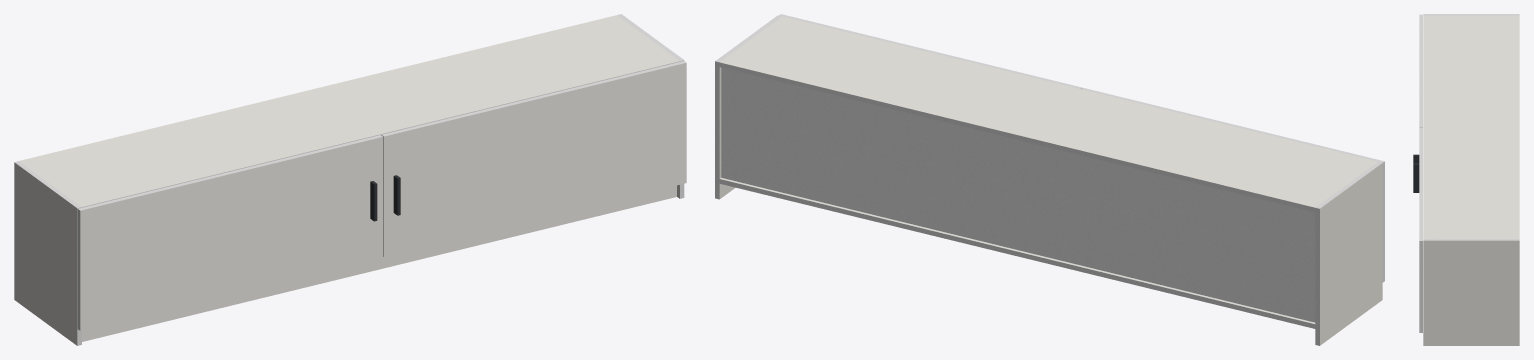
File: LIT-MED-long.glb
The picture shows the model from 3 angles, left to right: view 1: azimuth 30°, elevation 25°; view 2: azimuth 150°, elevation 25°; view 3: azimuth 270°, elevation 25°; orthographic projection. The views are drawn at different scales.
Visible parts, largest first — view 1: top:pbr, door-l:pbr, door-r:pbr, side-l:pbr, plinth:pbr, door-l:sheet:eyJtIjoibWRmIiwic2lkZSI6ImVkZ2UtbG9uZyIsInNlZWQ, door-r:sheet:eyJtIjoibWRmIiwic2lkZSI6ImVkZ2UtbG9uZyIsInNlZWQ, top:sheet:eyJtIjoibWRmIiwic2lkZSI6ImVkZ2UtbG9uZyIsInNlZWQiOj, pull; view 2: back:sheet:eyJtIjoibWRmIiwic2lkZSI6ImZhY2UiLCJzZWVkIjoxLCJ0a, top:pbr, side-l:pbr, top:sheet:eyJtIjoibWRmIiwic2lkZSI6ImVkZ2UtbG9uZyIsInNlZWQiOj, bottom:sheet:eyJtIjoibWRmIiwic2lkZSI6ImVkZ2UtbG9uZyIsInNlZWQ, bottom:pbr, door-l:sheet:eyJtIjoibWRmIiwic2lkZSI6ImVkZ2UtbG9uZyIsInNlZWQ, door-r:sheet:eyJtIjoibWRmIiwic2lkZSI6ImVkZ2UtbG9uZyIsInNlZWQ, side-l:sheet:eyJtIjoibWRmIiwic2lkZSI6ImVkZ2UtbG9uZyIsInNlZWQ, side-r:sheet:eyJtIjoibWRmIiwic2lkZSI6ImVkZ2UtbG9uZyIsInNlZWQ; view 3: top:pbr, side-r:pbr, door-l:sheet:eyJtIjoibWRmIiwic2lkZSI6ImVkZ2UtbG9uZyIsInNlZWQ, door-r:sheet:eyJtIjoibWRmIiwic2lkZSI6ImVkZ2UtbG9uZyIsInNlZWQ, door-r:sheet:eyJtIjoibWRmIiwic2lkZSI6ImVkZ2UtZW5kIiwic2VlZCI, pull, side-l:sheet:eyJtIjoibWRmIiwic2lkZSI6ImVkZ2UtZW5kIiwic2VlZCI, side-r:sheet:eyJtIjoibWRmIiwic2lkZSI6ImVkZ2UtZW5kIiwic2VlZCI.
Part boxes in pixels (bbox=[...]): top:pbr: bbox=[19, 15, 679, 206]; door-l:pbr: bbox=[80, 137, 383, 330]; door-r:pbr: bbox=[384, 63, 686, 256]; side-l:pbr: bbox=[14, 162, 77, 345]; plinth:pbr: bbox=[82, 185, 676, 341]; door-l:sheet:eyJtIjoibWRmIiwic2lkZSI6ImVkZ2UtbG9uZyIsInNlZWQ: bbox=[78, 135, 382, 210]; door-r:sheet:eyJtIjoibWRmIiwic2lkZSI6ImVkZ2UtbG9uZyIsInNlZWQ: bbox=[381, 61, 686, 136]; top:sheet:eyJtIjoibWRmIiwic2lkZSI6ImVkZ2UtbG9uZyIsInNlZWQiOj: bbox=[82, 61, 679, 207]; pull: bbox=[370, 175, 400, 221]; back:sheet:eyJtIjoibWRmIiwic2lkZSI6ImZhY2UiLCJzZWVkIjoxLCJ0a: bbox=[721, 67, 1315, 322]; top:pbr: bbox=[720, 16, 1377, 207]; side-l:pbr: bbox=[1320, 163, 1382, 345]; top:sheet:eyJtIjoibWRmIiwic2lkZSI6ImVkZ2UtbG9uZyIsInNlZWQiOj: bbox=[719, 62, 1315, 212]; bottom:sheet:eyJtIjoibWRmIiwic2lkZSI6ImVkZ2UtbG9uZyIsInNlZWQ: bbox=[719, 179, 1315, 328]; bottom:pbr: bbox=[720, 177, 1315, 323]; door-l:sheet:eyJtIjoibWRmIiwic2lkZSI6ImVkZ2UtbG9uZyIsInNlZWQ: bbox=[1081, 88, 1384, 162]; door-r:sheet:eyJtIjoibWRmIiwic2lkZSI6ImVkZ2UtbG9uZyIsInNlZWQ: bbox=[779, 14, 1081, 88]; side-l:sheet:eyJtIjoibWRmIiwic2lkZSI6ImVkZ2UtbG9uZyIsInNlZWQ: bbox=[1315, 208, 1319, 345]; side-r:sheet:eyJtIjoibWRmIiwic2lkZSI6ImVkZ2UtbG9uZyIsInNlZWQ: bbox=[715, 61, 719, 199]; top:pbr: bbox=[1423, 15, 1519, 238]; side-r:pbr: bbox=[1423, 240, 1519, 345]; door-l:sheet:eyJtIjoibWRmIiwic2lkZSI6ImVkZ2UtbG9uZyIsInNlZWQ: bbox=[1419, 14, 1422, 127]; door-r:sheet:eyJtIjoibWRmIiwic2lkZSI6ImVkZ2UtbG9uZyIsInNlZWQ: bbox=[1419, 128, 1422, 240]; door-r:sheet:eyJtIjoibWRmIiwic2lkZSI6ImVkZ2UtZW5kIiwic2VlZCI: bbox=[1419, 241, 1422, 332]; pull: bbox=[1413, 154, 1419, 192]; side-l:sheet:eyJtIjoibWRmIiwic2lkZSI6ImVkZ2UtZW5kIiwic2VlZCI: bbox=[1423, 14, 1519, 15]; side-r:sheet:eyJtIjoibWRmIiwic2lkZSI6ImVkZ2UtZW5kIiwic2VlZCI: bbox=[1423, 239, 1519, 240].
Bounding box in the file's own units: 2.4 × 0.52 × 0.4769.
Materials: 34 (23 with a texture image).
